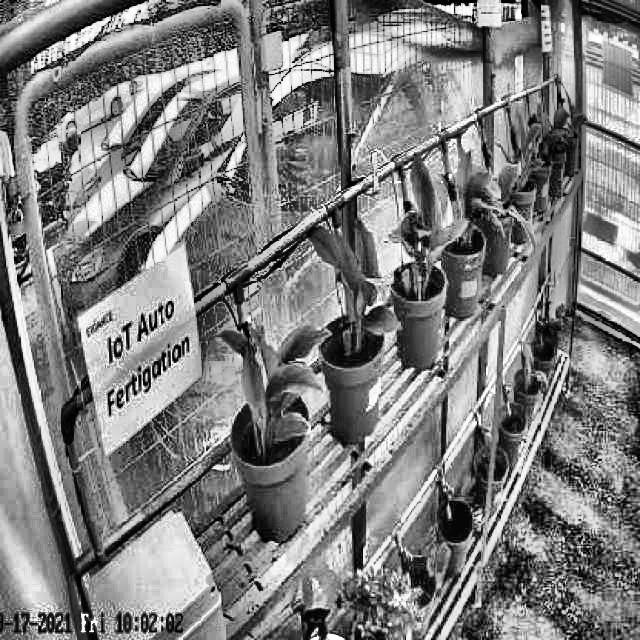plants: (218, 324, 332, 446), (309, 224, 402, 344), (393, 152, 461, 298), (448, 151, 498, 240)
